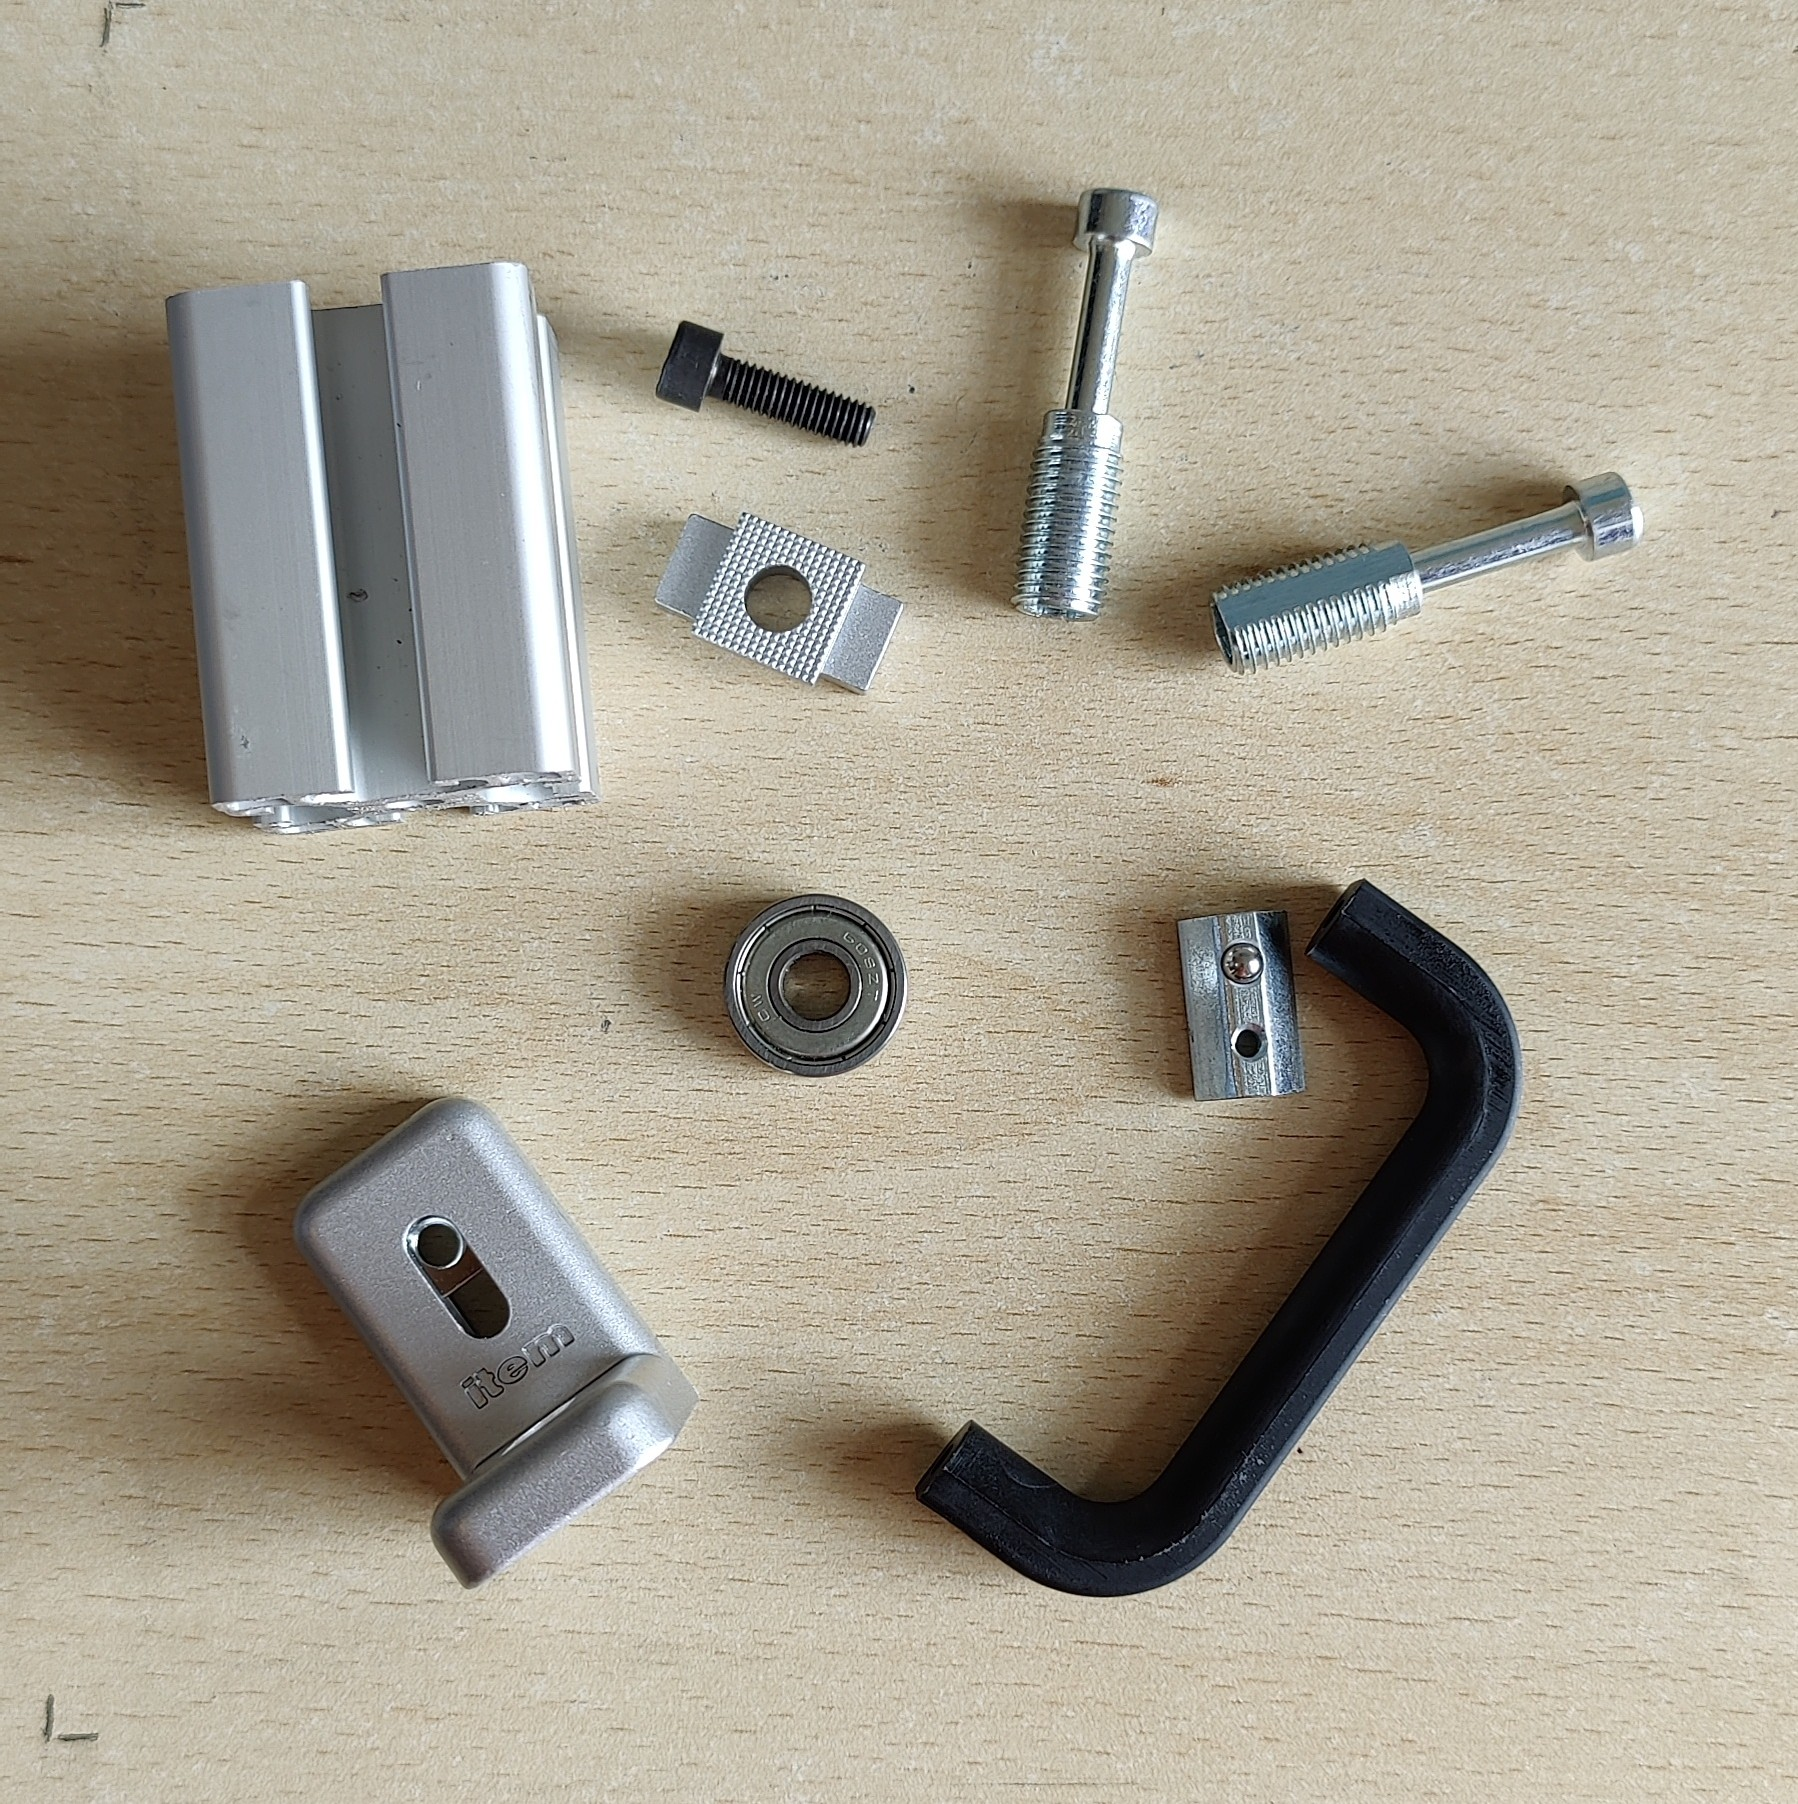Aluminium Extension: (161, 257, 604, 838)
Ball Bearing: (723, 890, 906, 1078)
Multiwinkel: (291, 1093, 701, 1592)
Pull Handle: (907, 877, 1526, 1600)
Shoulder Socket Head Cap Screw: (1205, 469, 1648, 680), (1006, 186, 1161, 625)
Socket Head Cap Screw: (650, 318, 879, 451)
T Nut Square: (650, 509, 906, 698)
T Spring Nut: (1171, 902, 1311, 1103)
